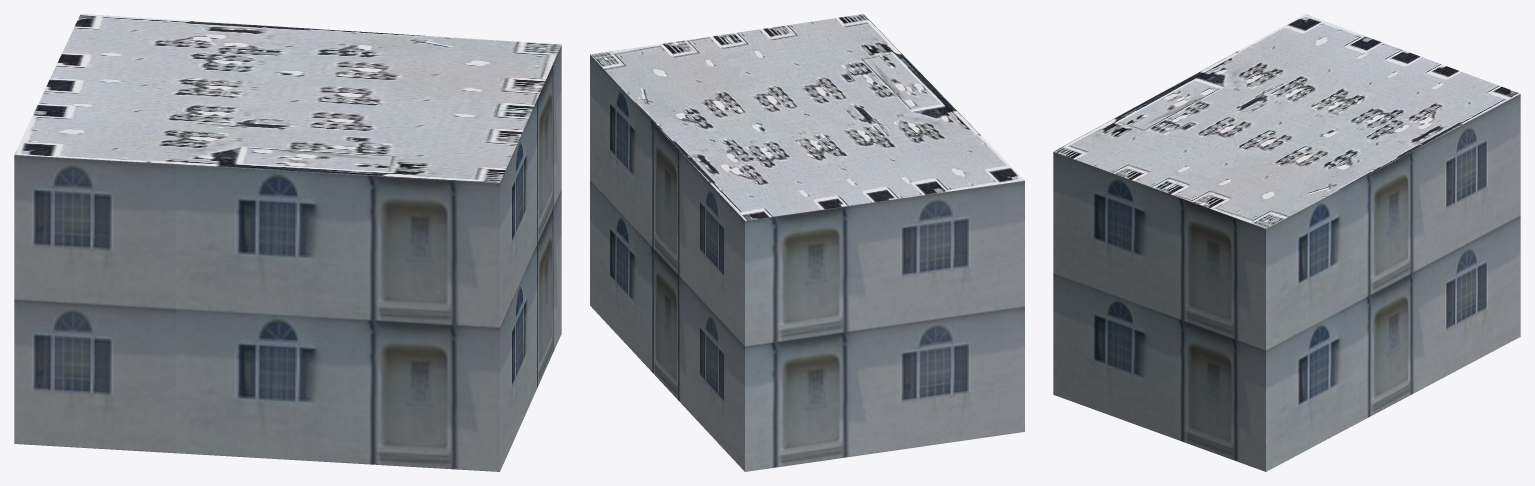
Rendered from ResTex__3965.fbx.
The picture shows the model from 3 angles, left to right: view 1: azimuth 30°, elevation 25°; view 2: azimuth 150°, elevation 25°; view 3: azimuth 270°, elevation 25°; orthographic projection. The views are drawn at different scales.
Visible parts, largest first — view 1: CityEngineMaterial_17_m, CityEngineMaterial_2_m; view 2: CityEngineMaterial_17_m, CityEngineMaterial_2_m; view 3: CityEngineMaterial_17_m, CityEngineMaterial_2_m.
Boxes of the visible parts, x1,y1,x2,y2 form: CityEngineMaterial_17_m: (14,45,561,471); CityEngineMaterial_2_m: (14,14,561,182); CityEngineMaterial_17_m: (590,55,1024,471); CityEngineMaterial_2_m: (590,14,1024,220); CityEngineMaterial_17_m: (1053,94,1520,471); CityEngineMaterial_2_m: (1053,14,1520,228).
Bounding box in the file's own units: 11.38 × 6 × 10.46.
Materials: 2 (2 with a texture image).
